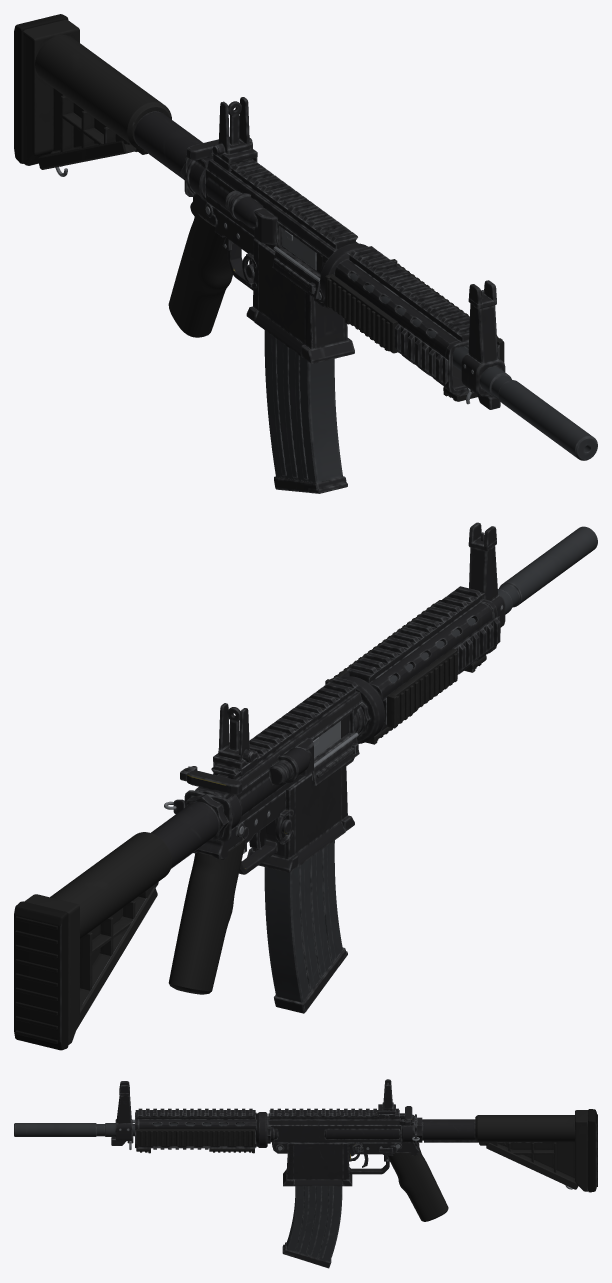
3 views of the same model, one above another, from view 1: azimuth 30°, elevation 25°; view 2: azimuth 150°, elevation 25°; view 3: azimuth 270°, elevation 25° (orthographic). The views are drawn at different scales.
Visible parts, largest first — view 1: Body, Mag, IronSights; view 2: Body, Mag, IronSights, Bolt; view 3: Body, Mag, IronSights.
Boxes of the visible parts, <box> form: Body: <box>14,14,597,460</box>; Mag: <box>264,330,347,493</box>; IronSights: <box>212,97,484,298</box>; Body: <box>14,522,597,1050</box>; Mag: <box>264,840,347,1013</box>; IronSights: <box>213,532,484,776</box>; Bolt: <box>180,766,241,795</box>; Body: <box>14,1081,597,1221</box>; Mag: <box>282,1186,342,1268</box>; IronSights: <box>378,1079,395,1119</box>.
Bounding box in the file's own units: 0.065 × 0.2733 × 0.7922.
